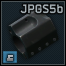JP Enterprises Gas System-5B: (0, 0, 66, 66)
